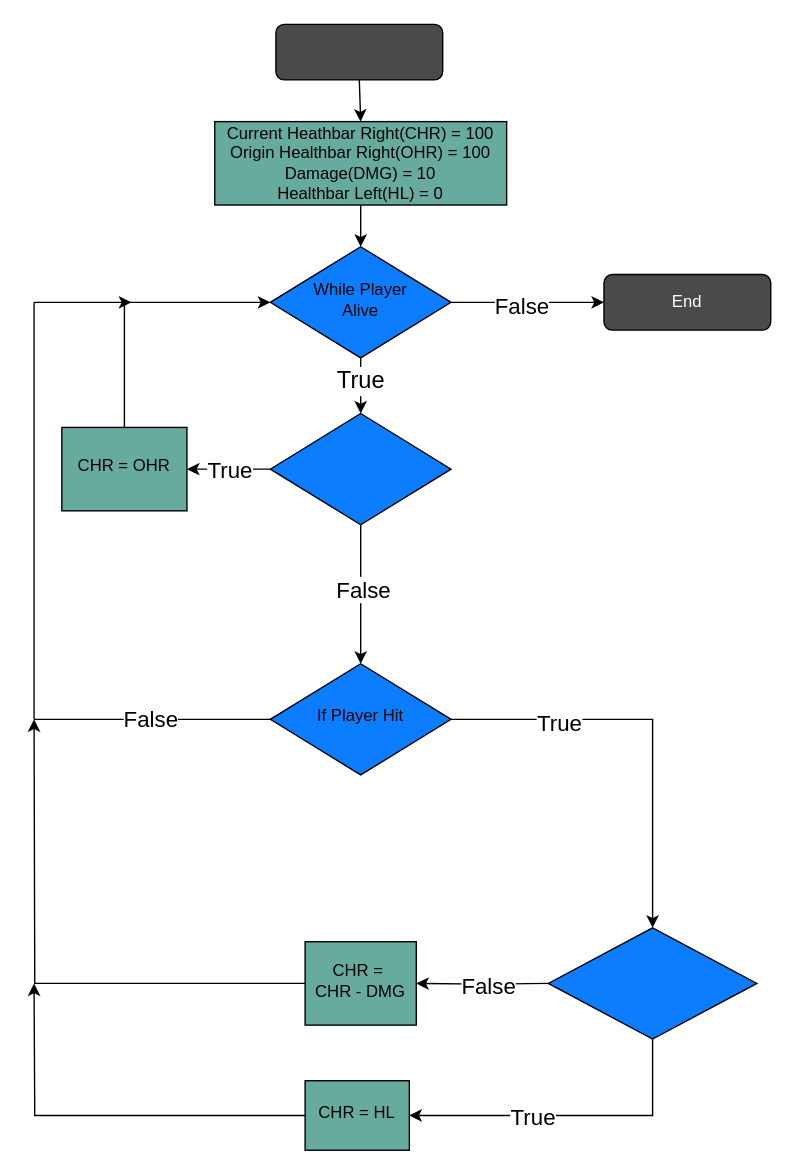
The diagram is 795 pixels wide and 1175 high, and some of its shapes have lost their labels. Here are the shapes that lost their labels. From the top down, the box of each, then its label:
(275, 23, 443, 80): START
(269, 412, 451, 525): If Round End
(547, 926, 757, 1039): If CHR - DMG <= HL
